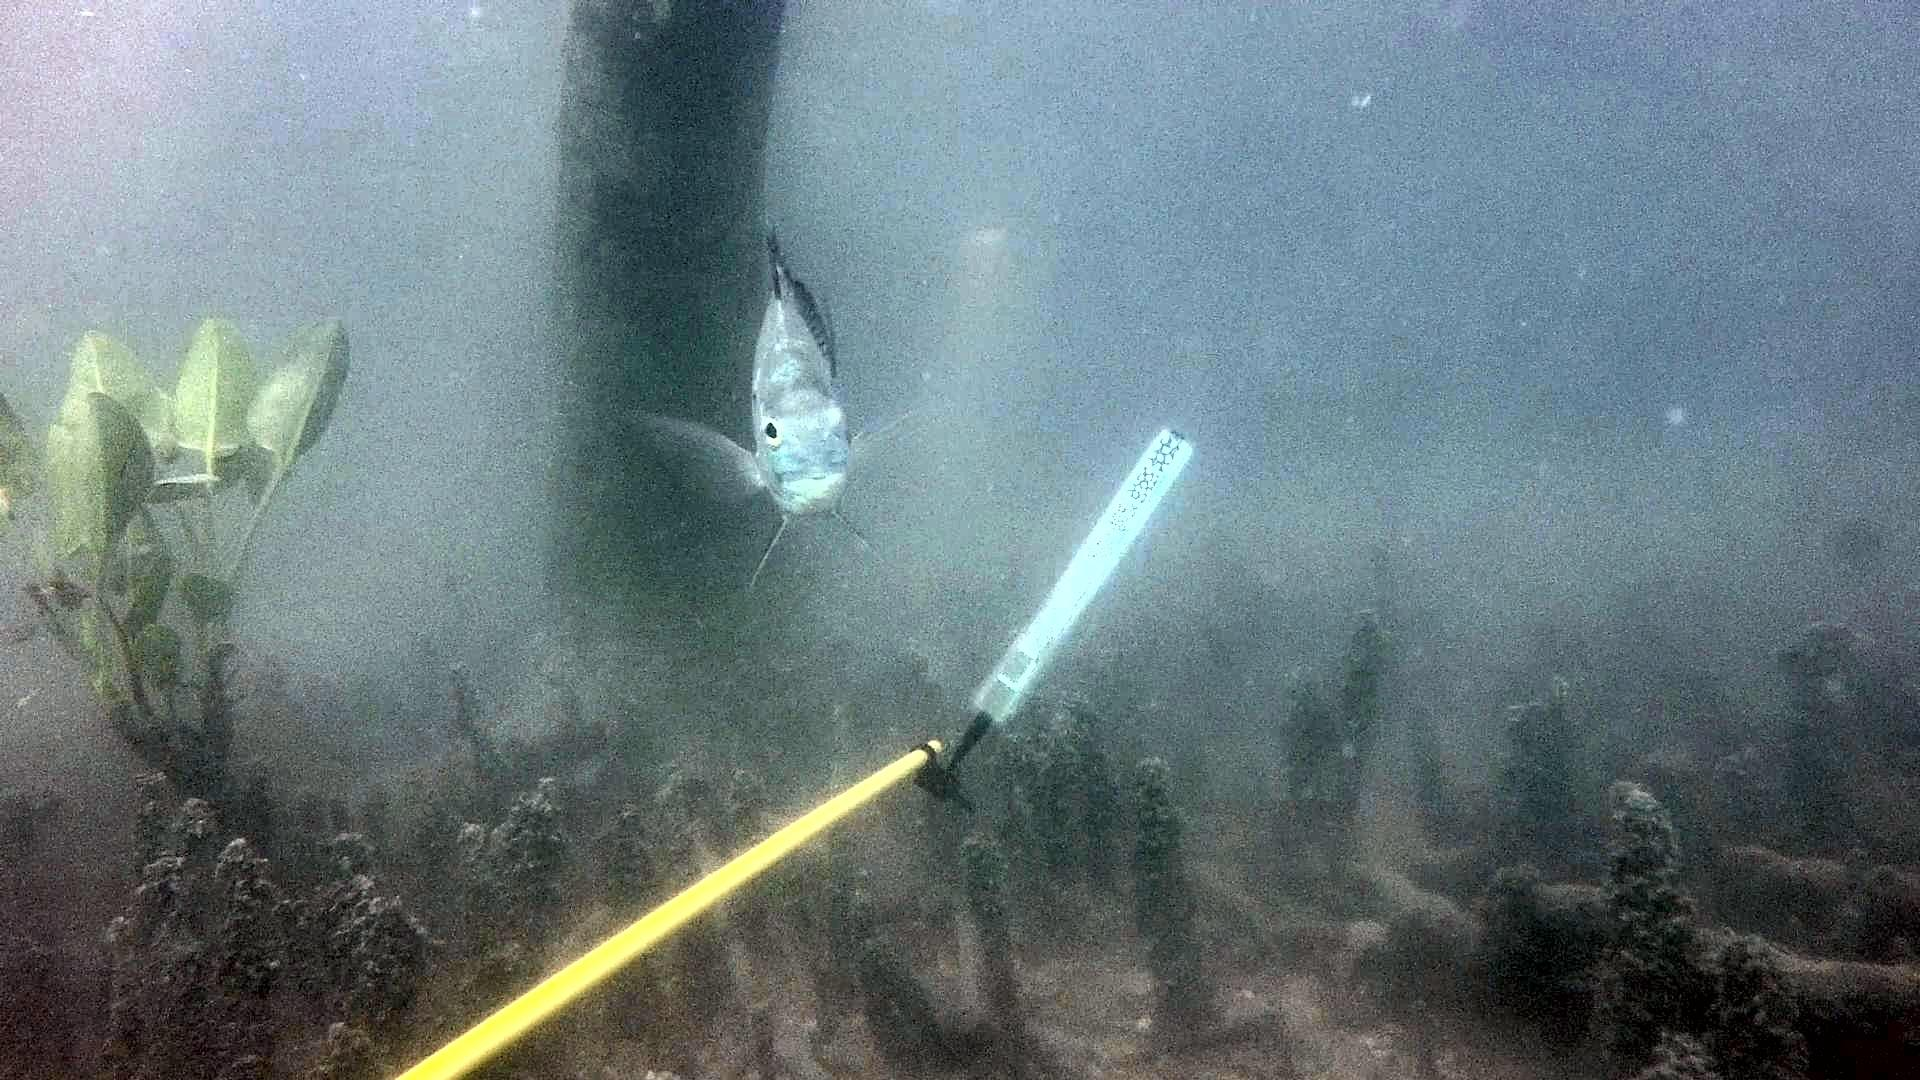acanthopagrus palmaris: (633, 211, 906, 582)
